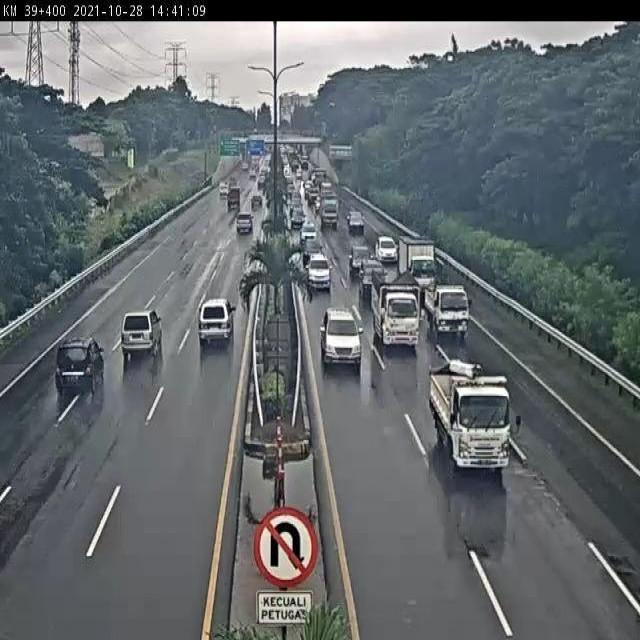car: (319, 307, 364, 369), (358, 256, 386, 296), (305, 252, 331, 291)
mid truck: (53, 337, 106, 395), (120, 308, 163, 361), (199, 297, 236, 348)
truck-m-: (430, 362, 513, 474), (371, 270, 421, 350)
truck-s-: (425, 281, 470, 339), (397, 233, 437, 290)
